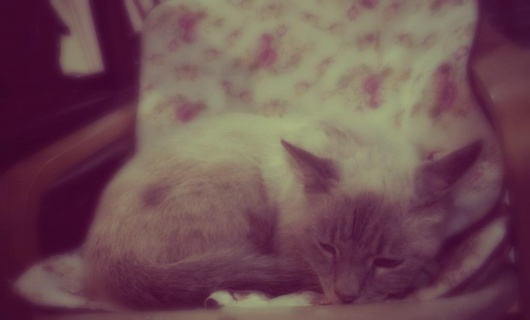Cat: (77, 107, 487, 305)
